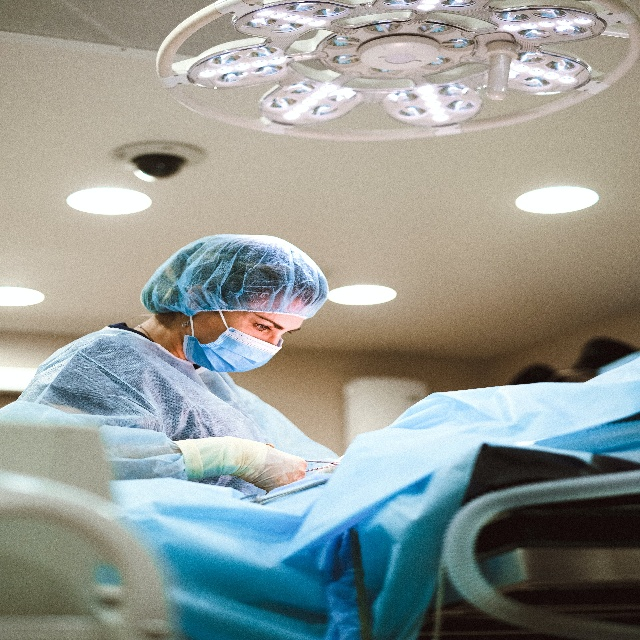Guantes: (198, 431, 307, 489)
Mascara: (178, 311, 304, 375)
